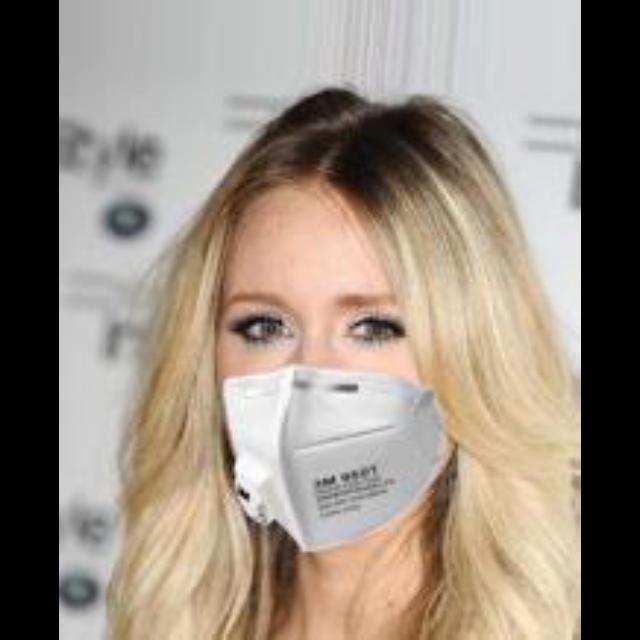suspicion: (172, 111, 468, 557)
